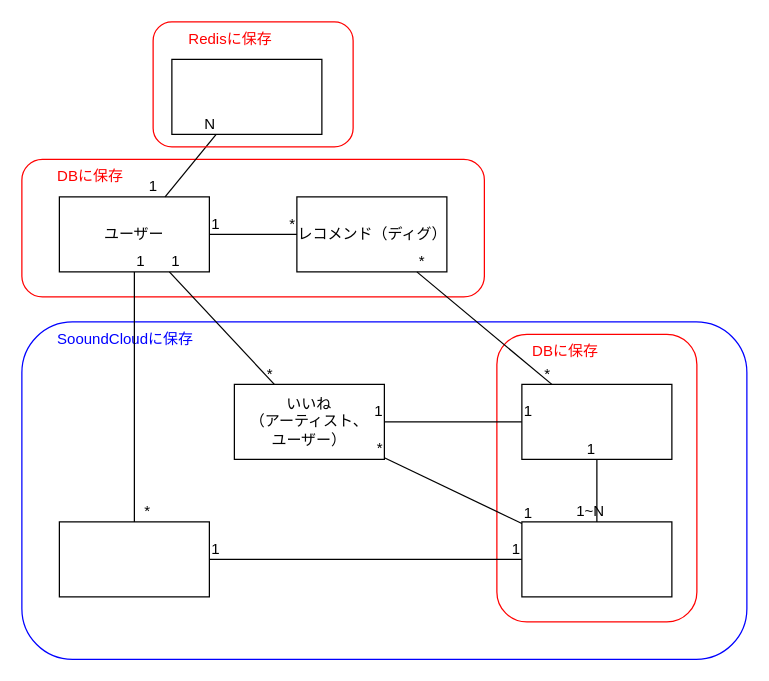
Some shapes in this 769 by 681 pixel diagram are drawn without their labels. Here are the shapes that lost their labels. From the top down, the centre of each, then its label:
At point 246,96: "セッション".
At point 596,421: "トラック".
At point 133,559: "フォロー".
At point 596,559: "アーティスト".
